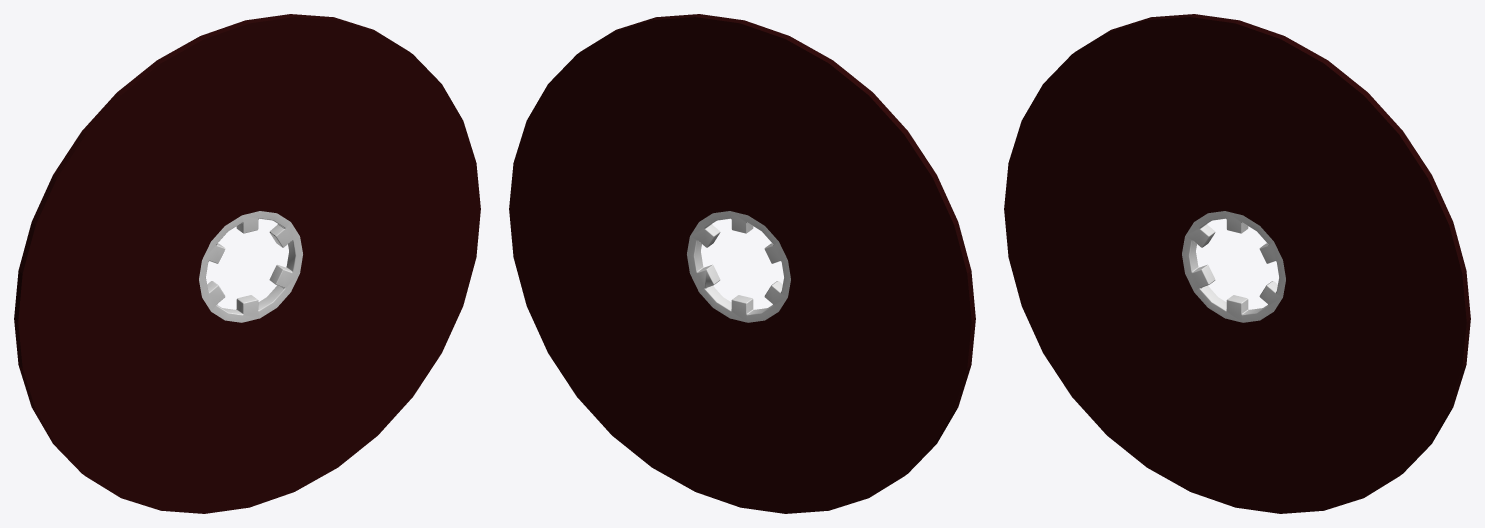
Rendered from tape_reel.glb.
3 renders of one model, left to right at view 1: azimuth 30°, elevation 25°; view 2: azimuth 150°, elevation 25°; view 3: azimuth 330°, elevation 25°, orthographic.
Visible parts, largest first — view 1: Cylinder, Tape; view 2: Cylinder, Tape; view 3: Cylinder, Tape.
Part boxes in pixels (box(x1,y1,x2,y2)): Cylinder: box(14, 14, 480, 513); Tape: box(199, 211, 302, 322); Cylinder: box(509, 14, 975, 513); Tape: box(687, 211, 790, 322); Cylinder: box(1004, 14, 1470, 513); Tape: box(1182, 211, 1285, 322).
Size of the model in its own units: 0.0822 by 0.0822 by 0.00216.
